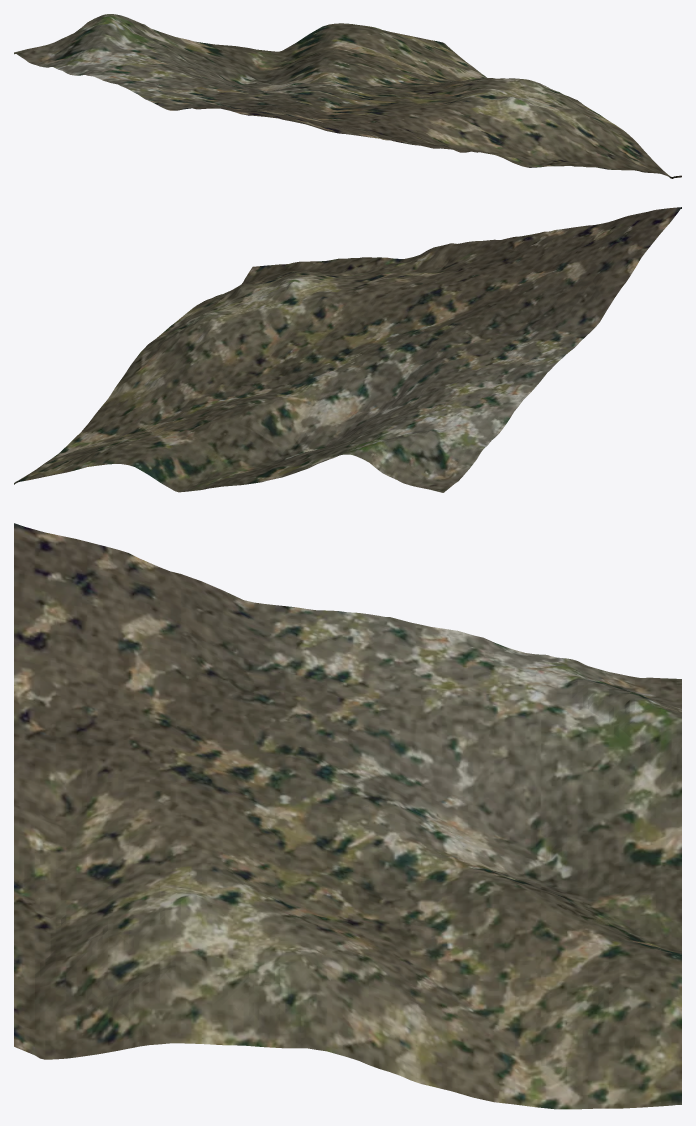
3 views of the same model, one above another, from view 1: azimuth 30°, elevation 25°; view 2: azimuth 150°, elevation 25°; view 3: azimuth 270°, elevation 25° (orthographic). The views are drawn at different scales.
Bounding box in the file's own units: 250 × 117 × 241.
1 material, 1 textured.
